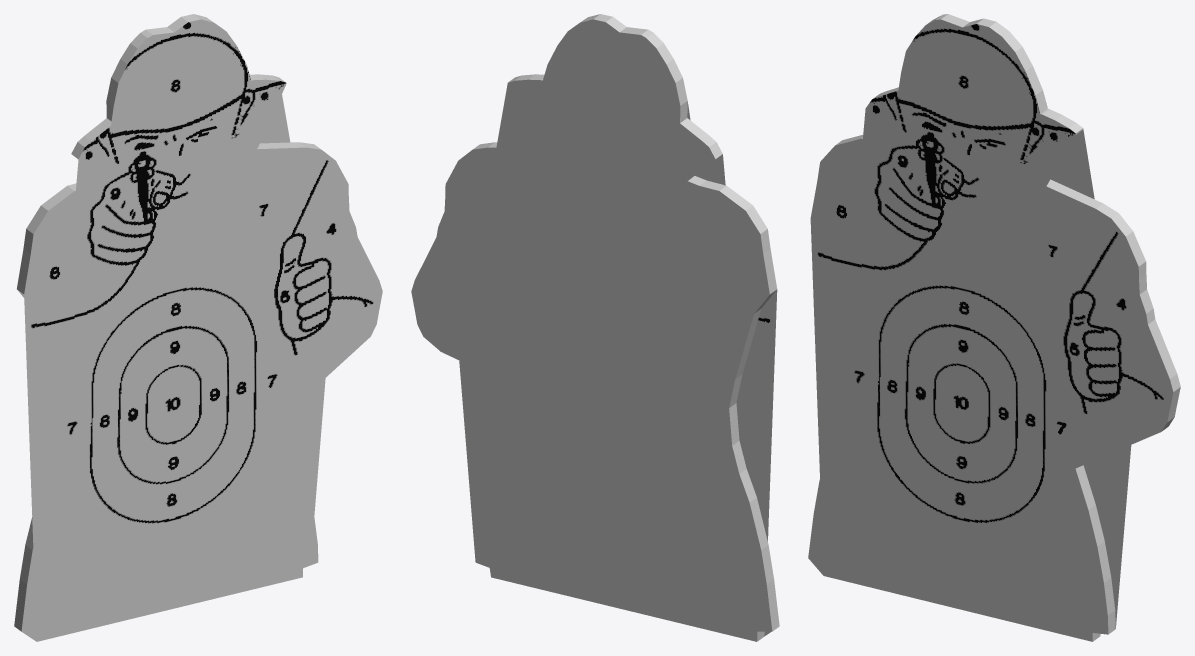
The model's file is poligono1.obj.
The picture shows the model from 3 angles, left to right: view 1: azimuth 30°, elevation 25°; view 2: azimuth 150°, elevation 25°; view 3: azimuth 330°, elevation 25°; orthographic projection.
Visible parts, largest first — view 1: Cube; view 2: Cube; view 3: Cube.
Part boxes in pixels (left/top/right/bottom): Cube: left=14, top=14, right=382, bottom=641; Cube: left=411, top=14, right=779, bottom=641; Cube: left=808, top=14, right=1180, bottom=641.
Bounding box in the file's own units: 1.48 × 2.28 × 0.053.
Materials: 1 (1 with a texture image).
